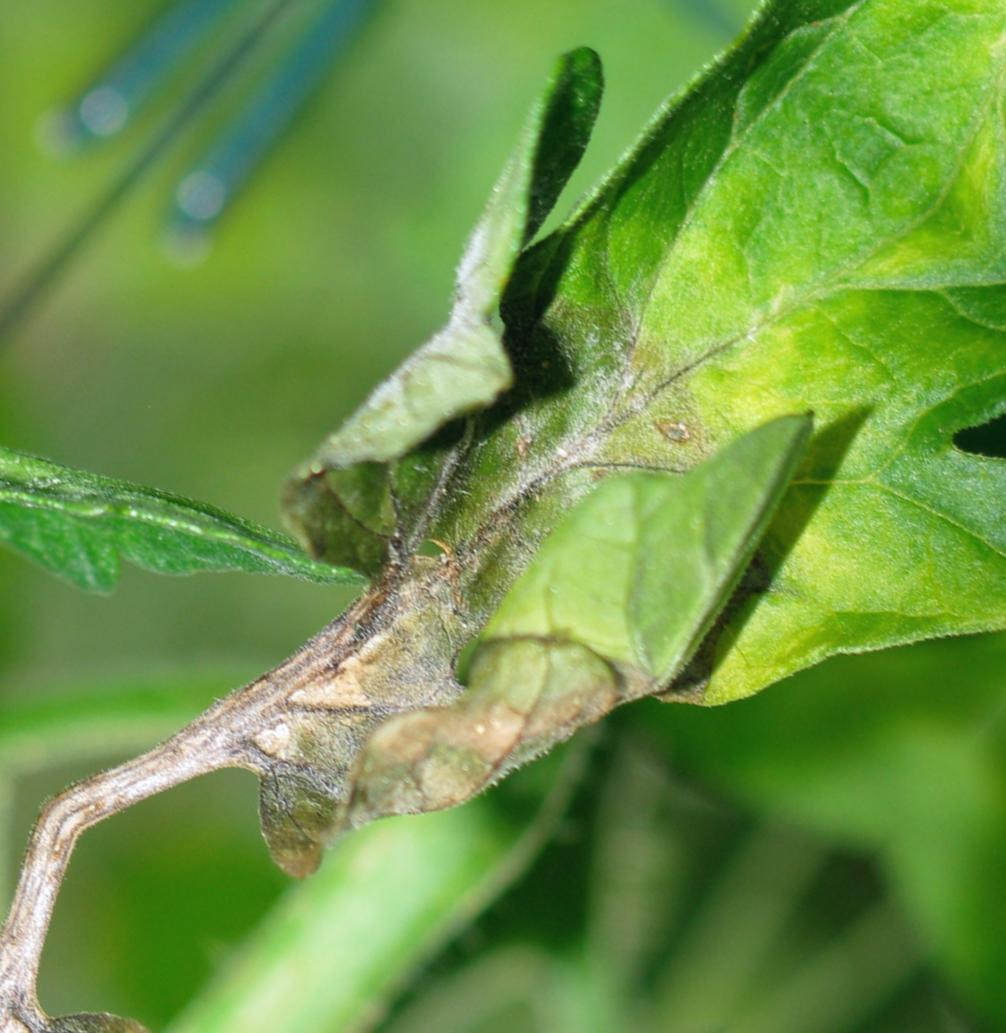Tomato leaf late blight: (8, 0, 1006, 1033)
